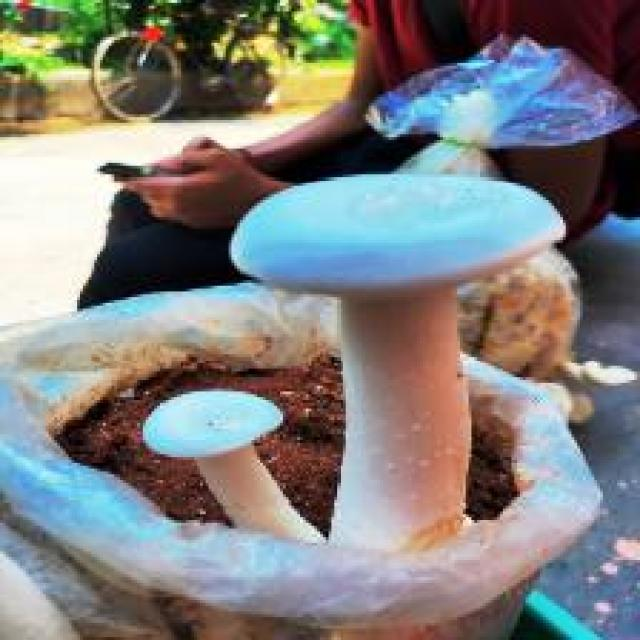field-mushroom: (226, 168, 568, 552)
